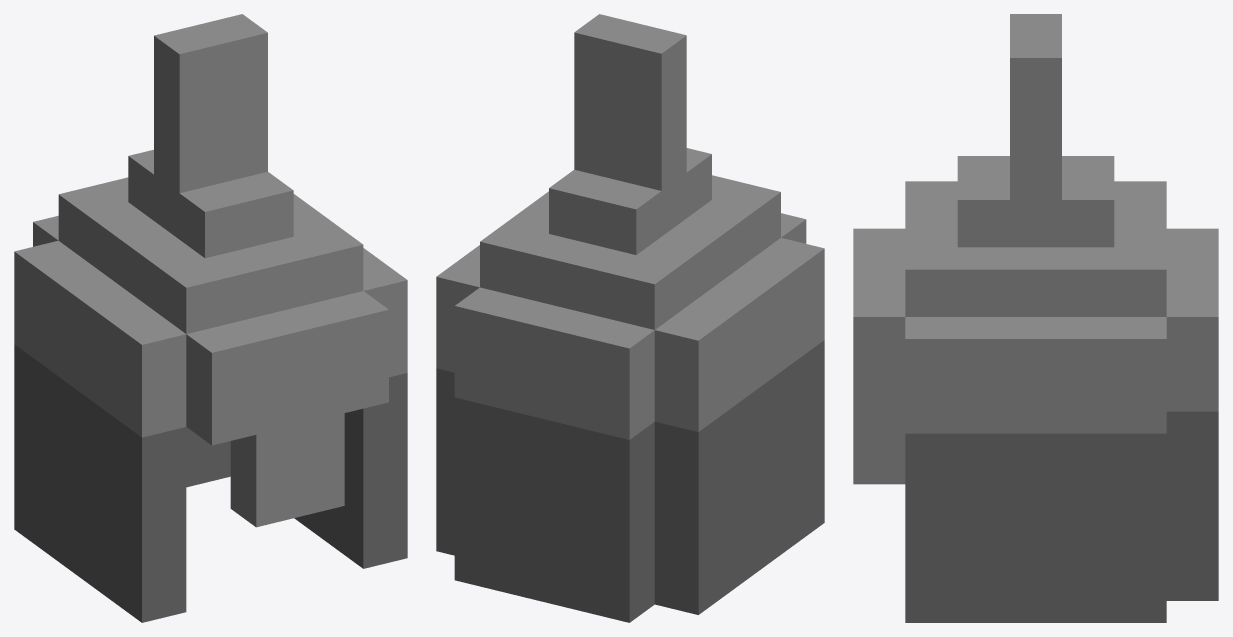
The model's file is characters_export_red-164-helm_med_1e_sh.obj.
3 renders of one model, left to right at view 1: azimuth 30°, elevation 25°; view 2: azimuth 150°, elevation 25°; view 3: azimuth 270°, elevation 25°, orthographic. The views are drawn at different scales.
Parts seen in each view (by area): view 1: helm_med_1e_sh; view 2: helm_med_1e_sh; view 3: helm_med_1e_sh.
Part boxes in pixels (x1,y1,x2,y2): helm_med_1e_sh: [14, 14, 407, 622]; helm_med_1e_sh: [436, 14, 824, 622]; helm_med_1e_sh: [853, 14, 1218, 622].
Bounding box in the file's own units: 0.6 × 1.1 × 0.7.
1 material, 1 textured.
